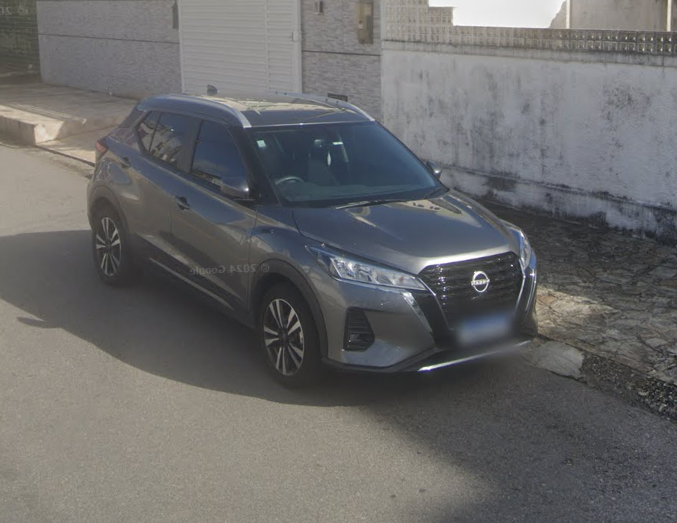car: (82, 78, 548, 392)
